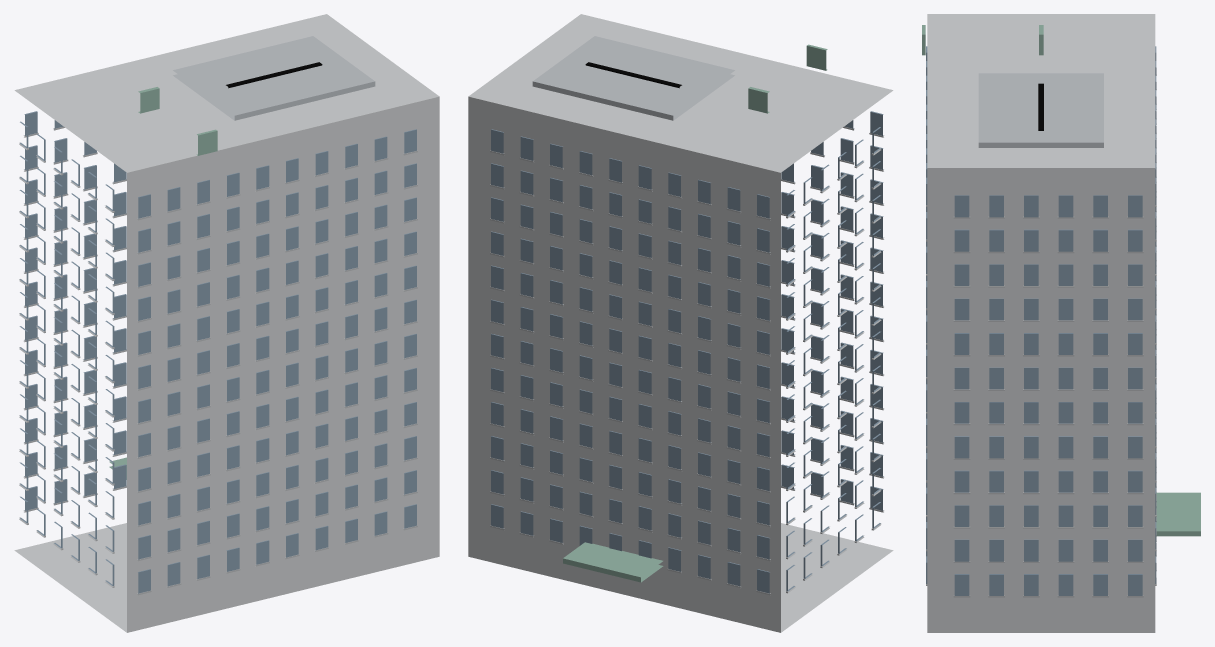
File: hospital_tower.glb
3 renders of one model, left to right at view 1: azimuth 30°, elevation 25°; view 2: azimuth 150°, elevation 25°; view 3: azimuth 270°, elevation 25°, orthographic.
Visible parts, largest first — view 1: hospital_tower; view 2: hospital_tower; view 3: hospital_tower.
Part boxes in pixels (x1,y1,x2,y2): hospital_tower: (14, 14, 439, 632); hospital_tower: (468, 14, 893, 632); hospital_tower: (922, 14, 1200, 632).
Size of the model in its own units: 32.24 by 47.2 by 24.45.
